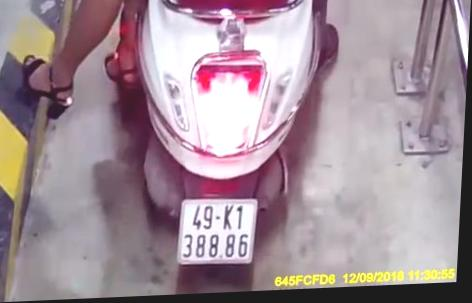License_Plate: (170, 191, 265, 271)
